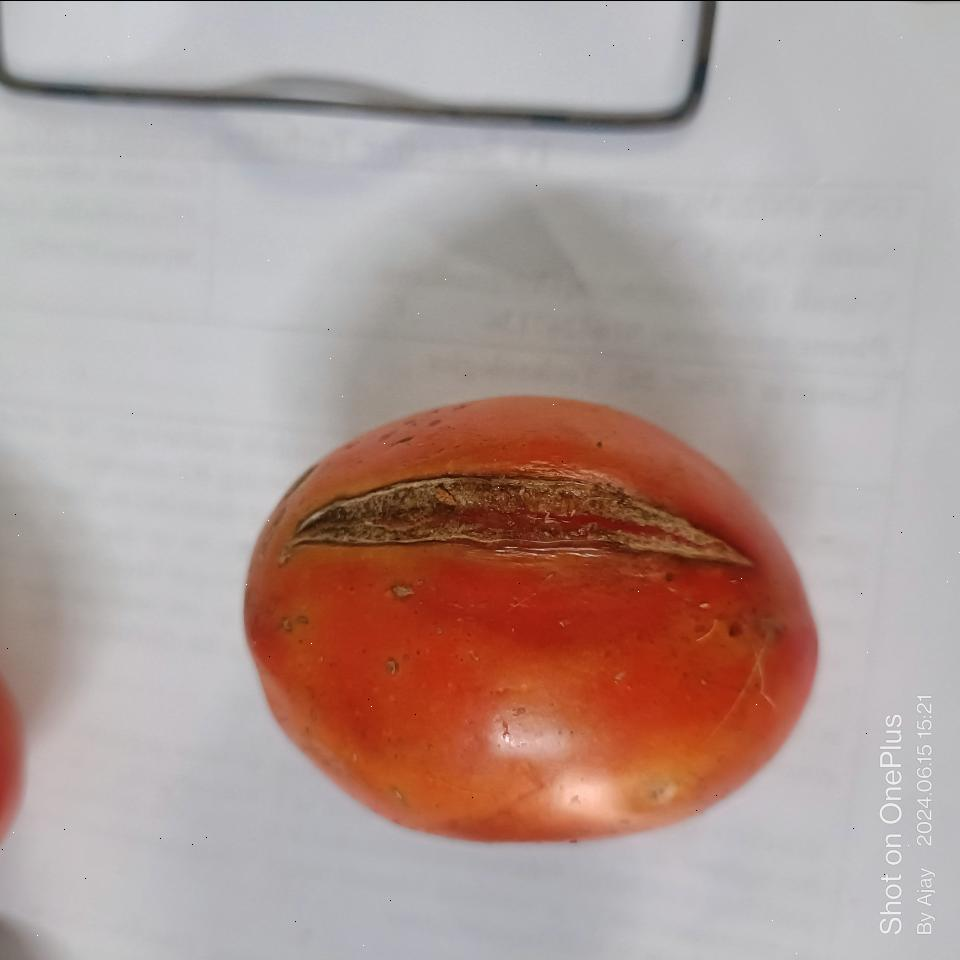Cracking: (293, 464, 769, 577)
